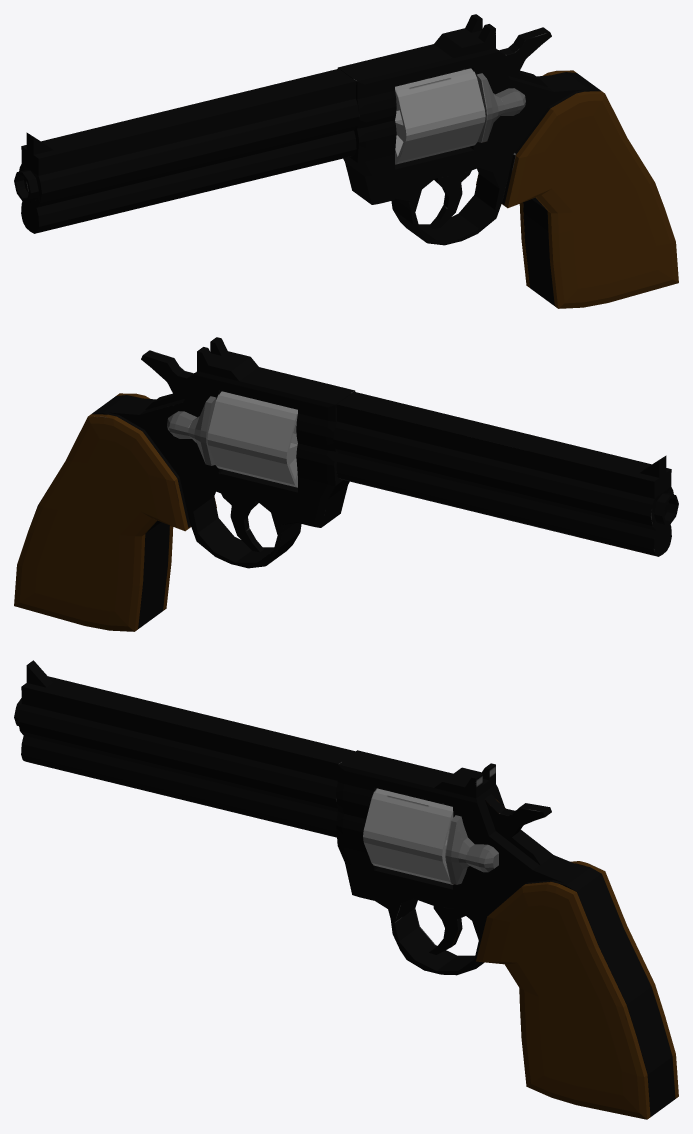
Rendered from Revolver_Export.fbx.
3 views of the same model, one above another, from view 1: azimuth 30°, elevation 25°; view 2: azimuth 150°, elevation 25°; view 3: azimuth 330°, elevation 25° (orthographic).
Visible parts, largest first — view 1: Cube.001; view 2: Cube.001; view 3: Cube.001.
Part boxes in pixels (x1=…): Cube.001: x1=14, y1=14, x2=678, y2=308; Cube.001: x1=14, y1=337, x2=678, y2=631; Cube.001: x1=14, y1=660, x2=678, y2=1119.
Size of the model in its own units: 0.339 by 0.1501 by 0.0399.
